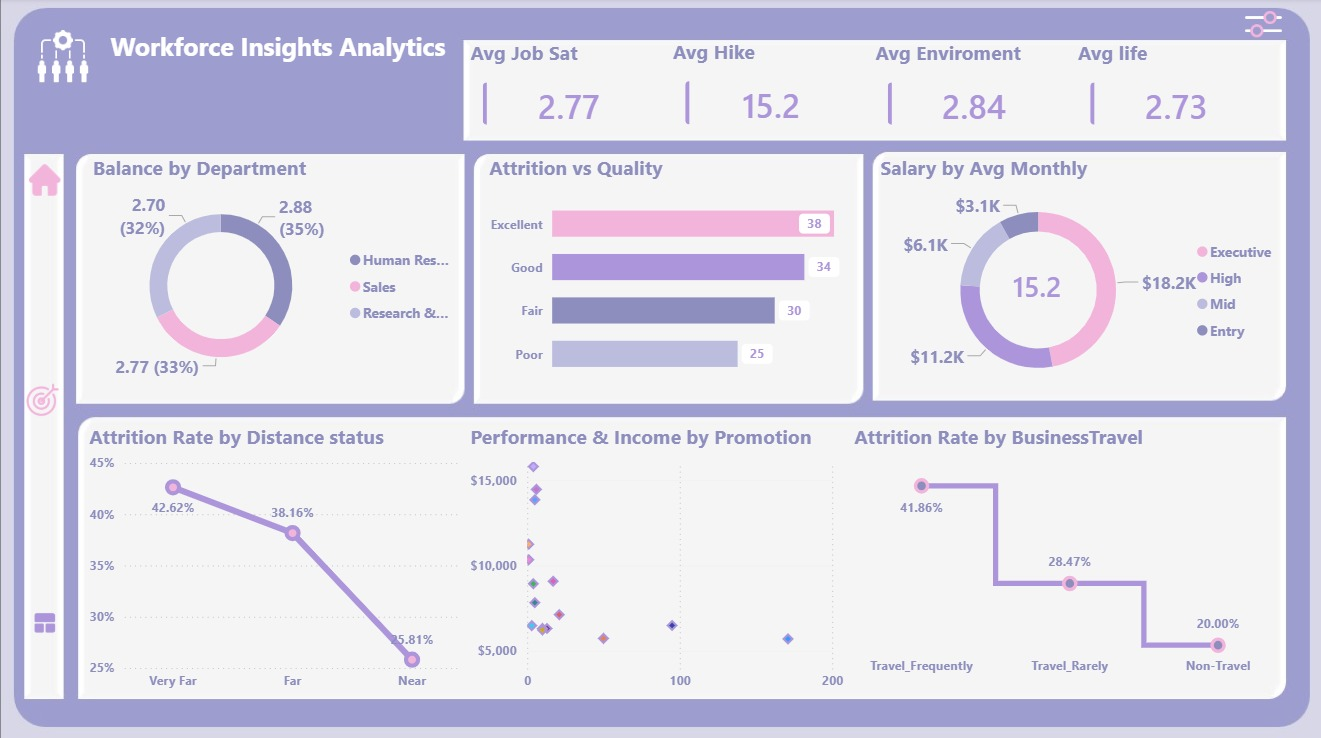

The dashboard page shown, as its layout file describes it:
{"tool":"powerbi","page":{"name":"Workforce ","canvas":[1280,720],"ordinal":2},"visuals":[{"type":"cardVisual","fields":{"Data":["Measure's.Av Salary Hike"]},"box":[938.6,258.2,115.4,69.5],"z":0},{"type":"image","title":"Open2","box":[1192.7,0,43.8,48.4],"z":1000,"group":"g1"},{"type":"cardVisual","title":"Avg Job Sat","fields":{"Data":["Measure's.Avg Job Satisfaction"]},"box":[450,39.8,200,100.1],"z":1000},{"type":"cardVisual","title":"Avg Hike","fields":{"Data":["Measure's.Av Work Life Balance"]},"box":[645.4,38.6,200,101.3],"z":2000},{"type":"cardVisual","title":"Avg Enviroment ","fields":{"Data":["Measure's.Avg Environment Satisfaction"]},"box":[840.7,39.8,200.3,100.1],"z":3000},{"type":"donutChart","title":"Balance by Department","fields":{"Y":["Measure's.Av Work Life Balance"],"Category":["HR Employee Attrition.Department"]},"box":[85.7,150.8,364.3,229.2],"z":4000},{"type":"cardVisual","title":"Avg life","fields":{"Data":["Measure's.Av Work Life Balance"]},"box":[1036.3,39.8,200.3,100.1],"z":5000},{"type":"donutChart","title":"Salary by Avg Monthly","fields":{"Y":["Measure's.Av Monthly Icome"],"Category":["HR Employee Attrition.Salary Status"]},"box":[844.5,150.8,394.5,229.2],"z":6000},{"type":"barChart","title":"Attrition vs Quality","fields":{"Y":["Measure's.Total Attrition"],"Category":["HR Employee Attrition.Relationship Quality"]},"box":[468.1,150.8,364.3,229.2],"z":7000},{"type":"textbox","box":[102.5,25.3,347.5,101.3],"z":8000},{"type":"areaChart","fields":{"Y":["Measure's.Attrition Rate"],"Category":["HR Employee Attrition.Distance status"]},"box":[82,410.2,368,266.6],"z":9000},{"type":"lineChart","fields":{"Category":["HR Employee Attrition.BusinessTravel"],"Y":["Measure's.Attrition Rate"]},"box":[820.4,410.2,418.6,252.1],"z":10000},{"type":"scatterChart","title":"Performance & Income by Promotion","fields":{"X":["CountNonNull(HR Employee Attrition.Performance Rating)"],"Y":["Measure's.Av Monthly Icome"],"Category":["HR Employee Attrition.Years Since Last Promotion"]},"box":[450,410.2,370.4,266.6],"z":11000},{"type":"group","id":"g1","title":"O&C 2","box":[1165.8,0,70.7,57.7],"z":12000},{"type":"image","box":[27.7,30.2,67.6,51.9],"z":14000},{"type":"image","box":[24.1,160.5,39.8,30.2],"z":15000},{"type":"image","box":[24.5,345.3,36.1,85.1],"z":16000},{"type":"image","box":[33.8,585.1,20.5,36.2],"z":17000}]}

Visuals, with their boxes in screenshot pixels (x1, y1, x2, y2), scaled from the page's 1280x720 canvas onto the 1321x738 screenshot:
cardVisual - Measure's.Av Salary Hike: [x1=969, y1=265, x2=1088, y2=336]
"Open2" image: [x1=1231, y1=0, x2=1276, y2=50]
"Avg Job Sat" cardVisual: [x1=464, y1=41, x2=671, y2=143]
"Avg Hike" cardVisual: [x1=666, y1=40, x2=872, y2=143]
"Avg Enviroment " cardVisual: [x1=868, y1=41, x2=1074, y2=143]
"Balance by Department" donutChart: [x1=88, y1=155, x2=464, y2=389]
"Avg life" cardVisual: [x1=1069, y1=41, x2=1276, y2=143]
"Salary by Avg Monthly" donutChart: [x1=872, y1=155, x2=1279, y2=389]
"Attrition vs Quality" barChart: [x1=483, y1=155, x2=859, y2=389]
textbox: [x1=106, y1=26, x2=464, y2=130]
areaChart - Measure's.Attrition Rate x HR Employee Attrition.Distance status: [x1=85, y1=420, x2=464, y2=694]
lineChart - HR Employee Attrition.BusinessTravel x Measure's.Attrition Rate: [x1=847, y1=420, x2=1279, y2=679]
"Performance & Income by Promotion" scatterChart: [x1=464, y1=420, x2=847, y2=694]
"O&C 2" group: [x1=1203, y1=0, x2=1276, y2=59]
image: [x1=29, y1=31, x2=98, y2=84]
image: [x1=25, y1=165, x2=66, y2=195]
image: [x1=25, y1=354, x2=63, y2=441]
image: [x1=35, y1=600, x2=56, y2=637]
